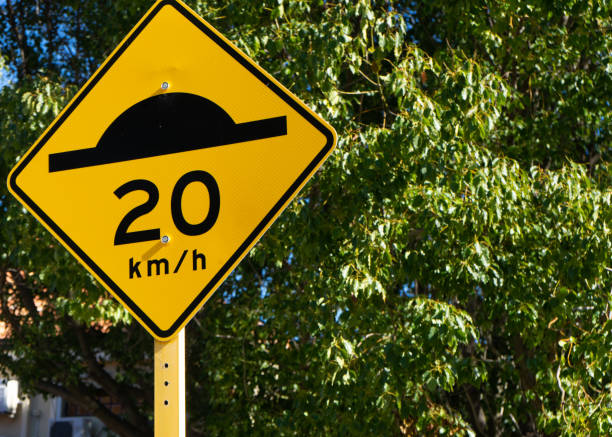speed-breaker: (36, 24, 298, 304)
